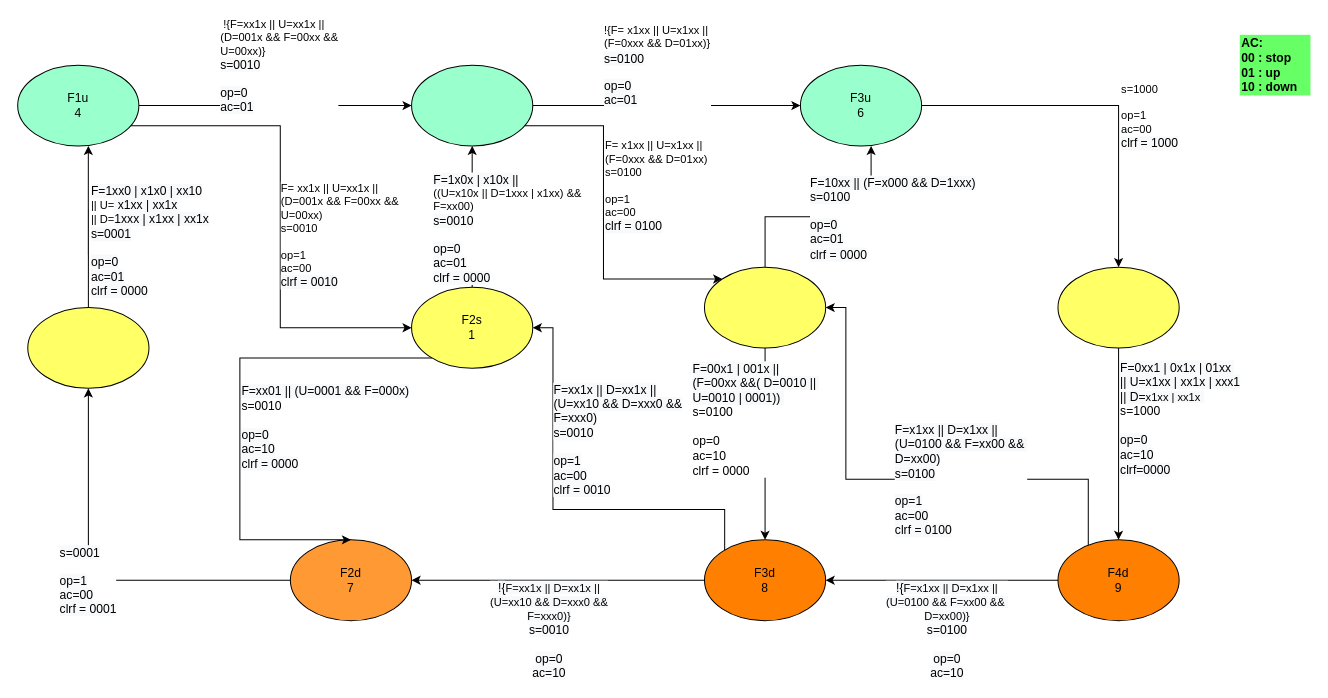
Image size: 1328x698. Some labels were removed from this diagram. Here are the shapes that lost their labels. From the top down, the centre of each, then its label:
At pixel 472 105: "F2u 5".
At pixel 764 307: "F3s 2".
At pixel 1118 307: "F4s 3".
At pixel 88 347: "F1s 0".
